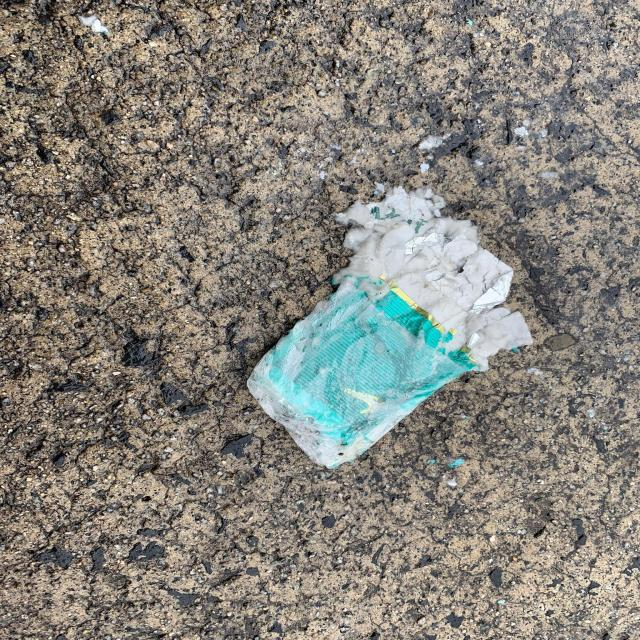litter: (247, 189, 531, 469)
